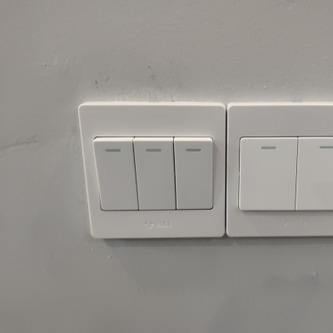switch: (236, 131, 301, 217), (127, 132, 183, 215), (91, 131, 140, 214), (168, 133, 218, 213), (292, 133, 333, 218)
